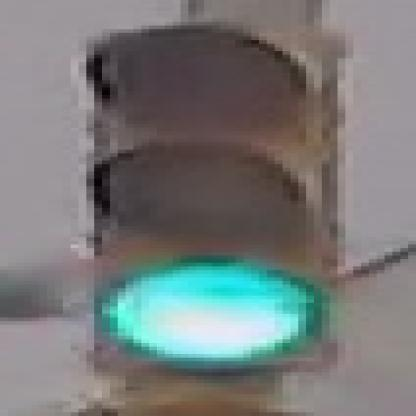Green Light: (73, 22, 360, 373)
